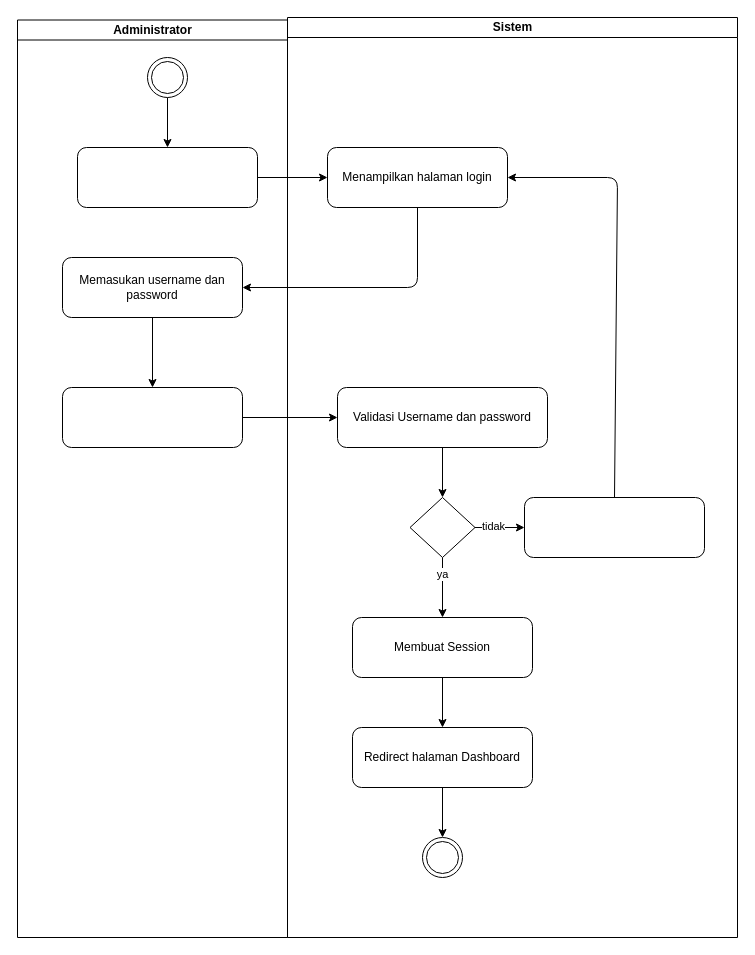
The diagram is 755 pixels wide and 955 high, and some of its shapes have lost their labels. The centre of each missing label's shape, as x and y in pixels:
Membuka halaman login: [167,177]
Memunculkan notivikasi username dan password salah: [614,527]
Mengklik button login: [152,417]
